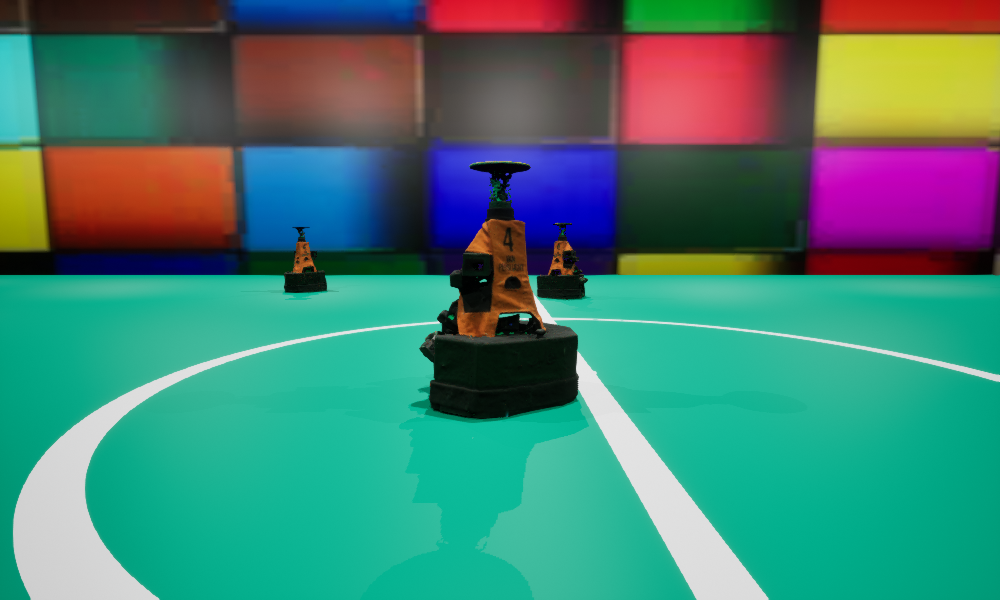0 orange robot TechUnited: (419, 161, 578, 417), (537, 223, 587, 299), (284, 227, 326, 292)
